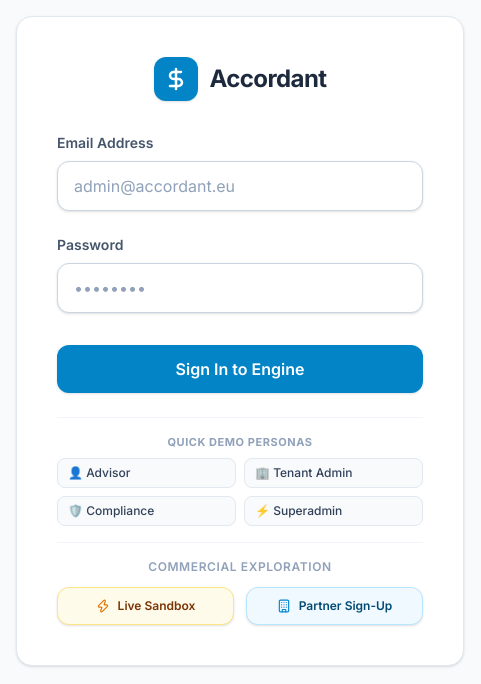
Test case: Slice 6: Commercial Funnel & White-Label Theming › provides quick demo persona chips that auto-fill credentials in App
The image size is (481, 684).
Expected: the text "Quick Demo Personas" is shown, [168,435,313,449]
What coordinates should you click on to do the following:
click the button "👤 Advisor"
I would click on:
 (146, 473)
Its box is [57,458,236,488].
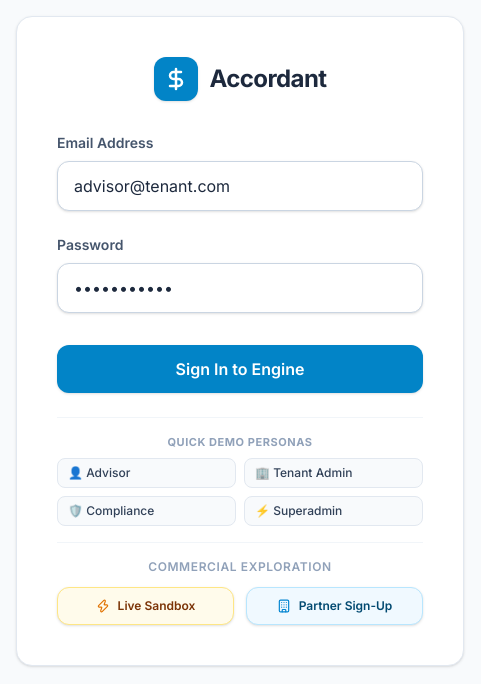
Expected: the field with placeholder "admin@accordant.eu" holds "advisor@tenant.com", [57,161,423,211]
Expected: the password field with placeholder "••••••••" holds "changeme123", [57,263,423,313]
What coordinates should you click on to do the following:
click the button "⚡ Superadmin"
I would click on:
 (334, 511)
Its box is [244,496,423,526].
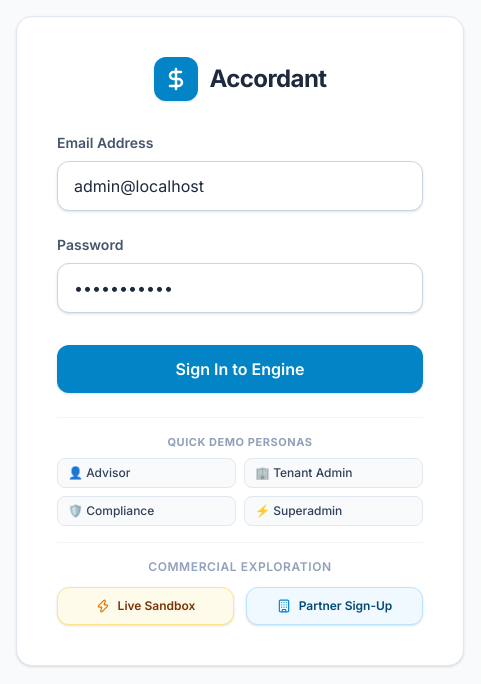
Expected: the password field with placeholder "••••••••" holds "changeme123", [57,263,423,313]
Expected: the field with placeholder "admin@accordant.eu" holds "admin@localhost", [57,161,423,211]
